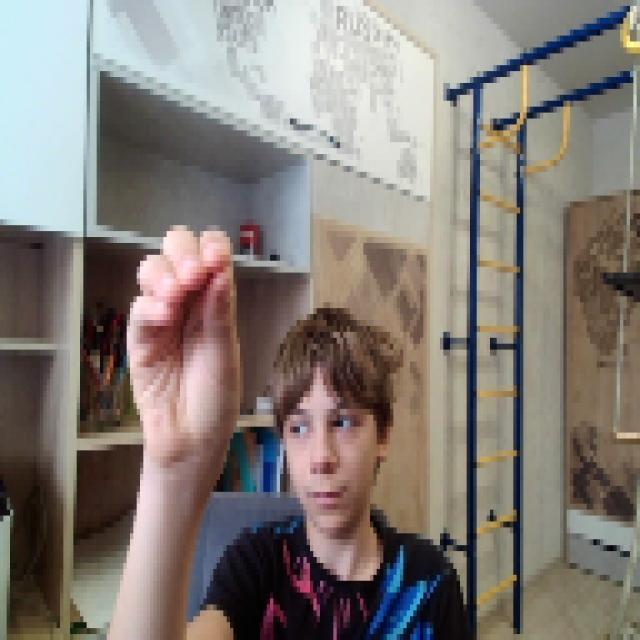left_click: (123, 213, 240, 474)
